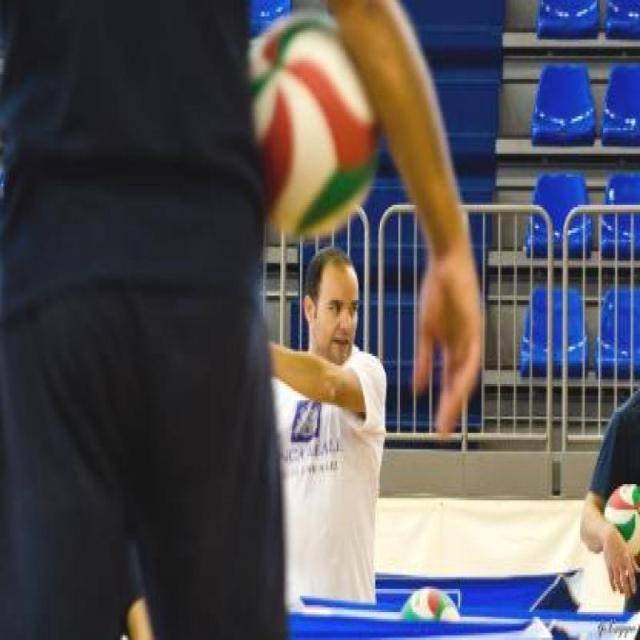volleyball: (248, 2, 384, 249), (604, 484, 638, 558), (398, 589, 460, 624)
